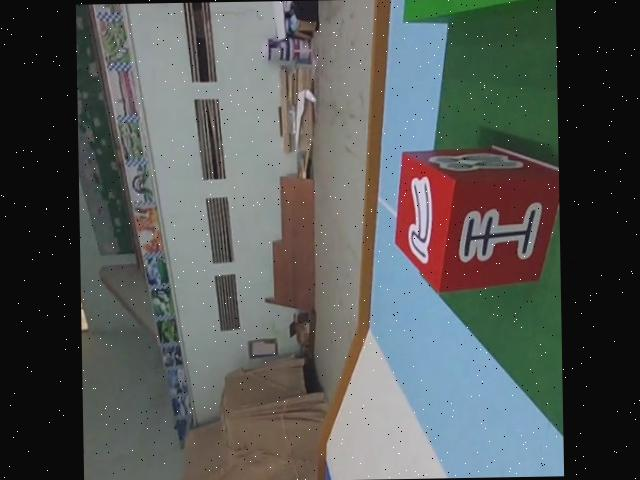R2 Fake: (391, 140, 561, 293)
